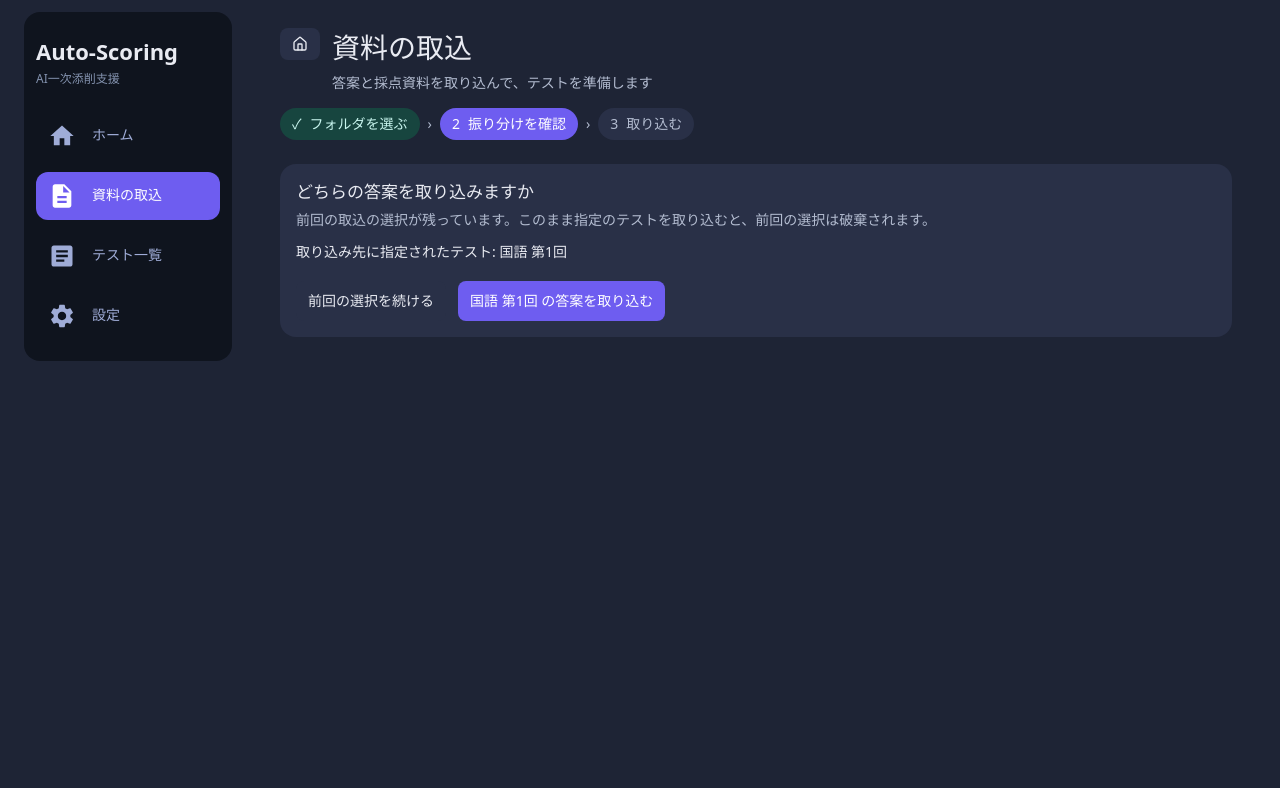
IntakePage target preselection (Issue #414) › asks before discarding a restorable session, and lets the user continue it
Check: the element with test id "intake-target-conflict" is shown, box 280,164 -> 1232,338
Click the button with test id "intake-target-continue" at [371, 301], box 296,281 -> 446,322
(page scrolled)
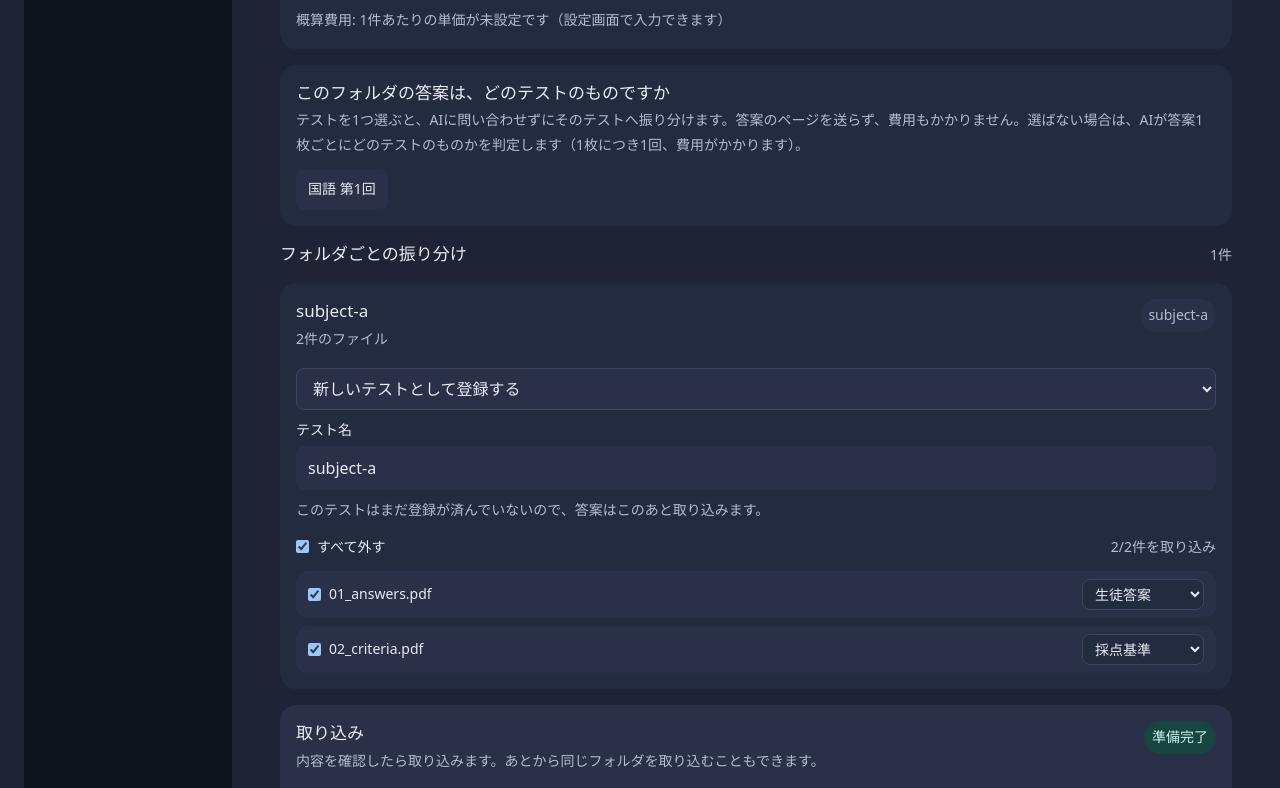
Check: the dropdown with test id "intake-target-subject-a" shows "新しいテストとして登録する", box 296,368 -> 1216,410
